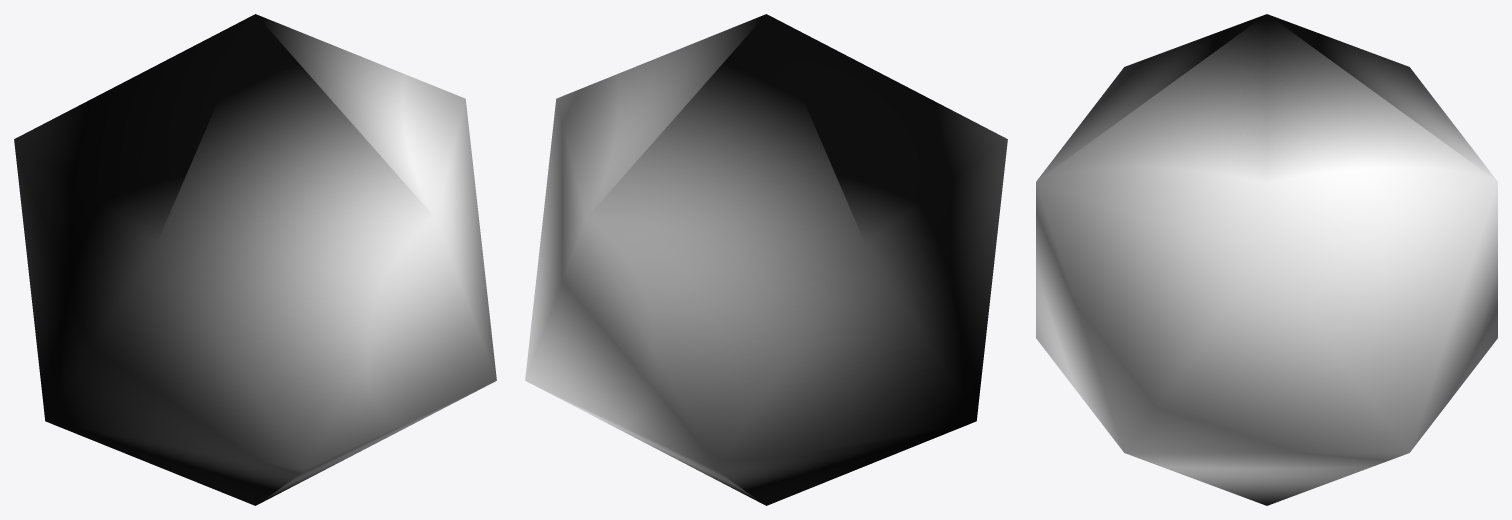
Rendered from ForestScene.obj.
The picture shows the model from 3 angles, left to right: view 1: azimuth 30°, elevation 25°; view 2: azimuth 150°, elevation 25°; view 3: azimuth 270°, elevation 25°; orthographic projection.
Visible parts, largest first — view 1: GeoSphere001; view 2: GeoSphere001; view 3: GeoSphere001.
Boxes of the visible parts, x1=… form: GeoSphere001: x1=14, y1=14, x2=496, y2=505; GeoSphere001: x1=525, y1=14, x2=1007, y2=505; GeoSphere001: x1=1036, y1=14, x2=1497, y2=505.
Size of the model in its own units: 78140 by 87363 by 74316.
